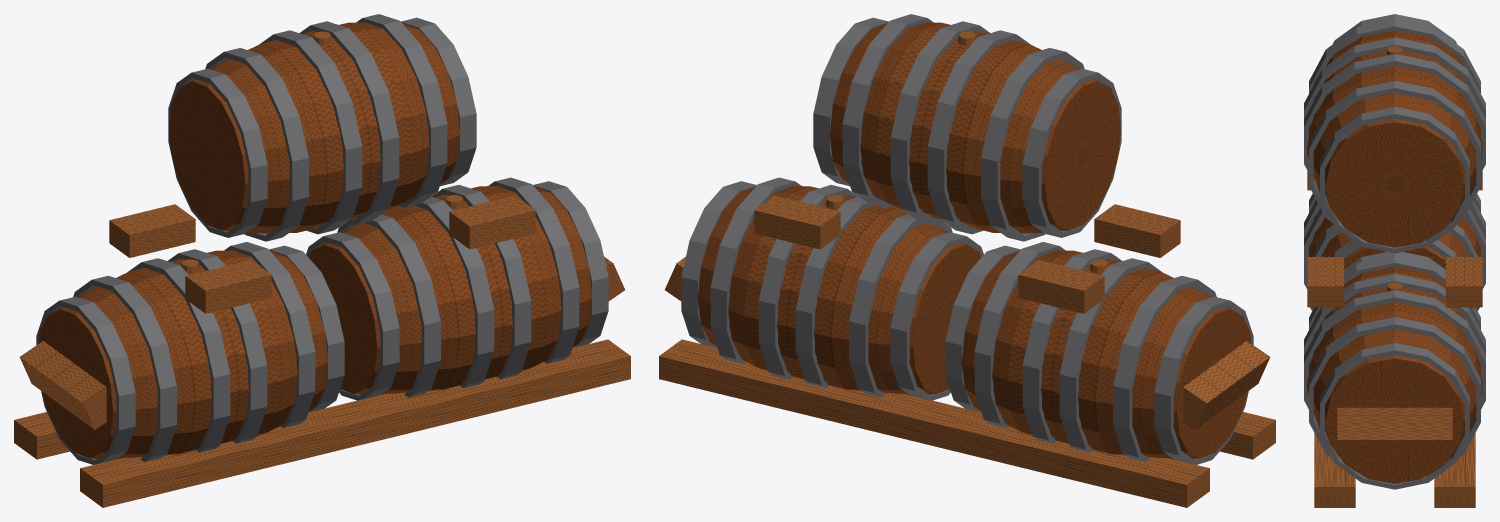
Rendered from distillery-and-bonded-warehouse-dunnage-stack-e08d687e__38694.glb.
3 renders of one model, left to right at view 1: azimuth 30°, elevation 25°; view 2: azimuth 150°, elevation 25°; view 3: azimuth 270°, elevation 25°, orthographic. The views are drawn at different scales.
Visible parts, largest first — view 1: dunnage-stack-oak, dunnage-stack-iron, dunnage-stack-timber; view 2: dunnage-stack-oak, dunnage-stack-iron, dunnage-stack-timber; view 3: dunnage-stack-oak, dunnage-stack-iron, dunnage-stack-timber.
Part boxes in pixels (x1,y1,x2,y2): dunnage-stack-oak: (38,22,592,459); dunnage-stack-iron: (36,14,608,464); dunnage-stack-timber: (14,31,630,507); dunnage-stack-oak: (697,22,1251,459); dunnage-stack-iron: (681,14,1253,464); dunnage-stack-timber: (659,31,1275,507); dunnage-stack-oak: (1307,30,1482,483); dunnage-stack-iron: (1304,14,1485,489); dunnage-stack-timber: (1307,46,1482,507).
Bounding box in the file's own units: 2.47 × 1.66 × 0.7875.
Materials: 3 (2 with a texture image).
